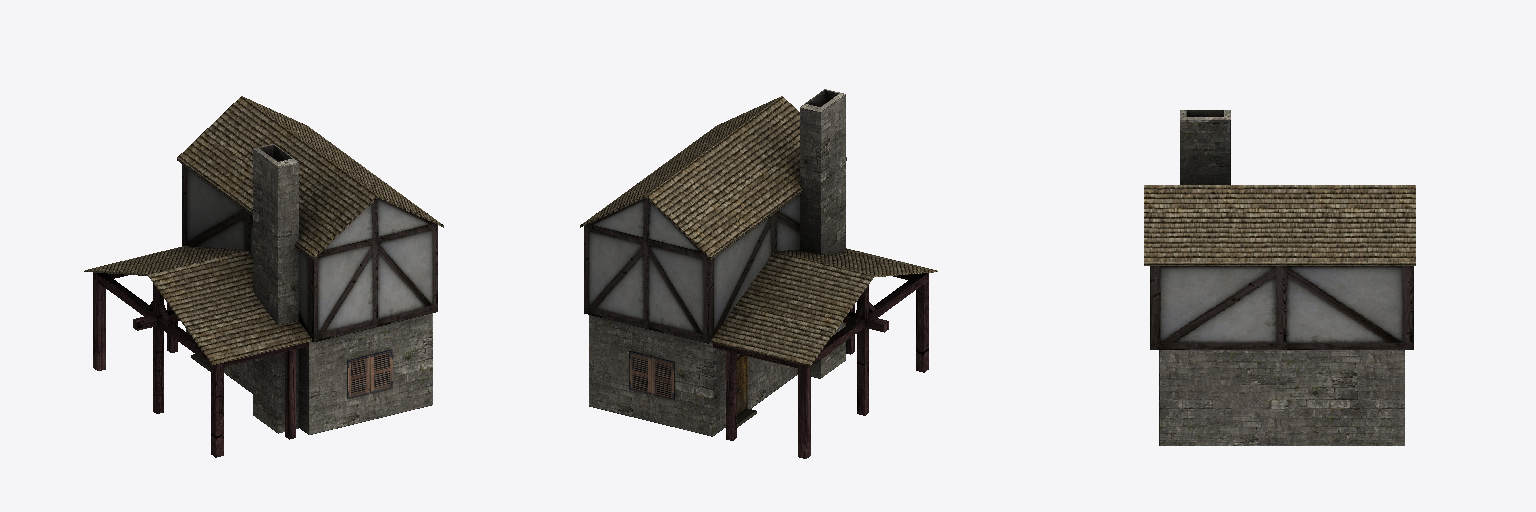
The picture shows the model from 3 angles: view 1: azimuth 30°, elevation 25°; view 2: azimuth 150°, elevation 25°; view 3: azimuth 270°, elevation 25°; orthographic projection.
Visible parts, largest first — view 1: Object_ext_house01_col.jpg; view 2: Object_ext_house01_col.jpg; view 3: Object_ext_house01_col.jpg.
Boxes of the visible parts, <box> form: Object_ext_house01_col.jpg: <box>84,96,443,457</box>; Object_ext_house01_col.jpg: <box>580,89,937,458</box>; Object_ext_house01_col.jpg: <box>1144,110,1415,445</box>.
Bounding box in the file's own units: 2.33 × 2.5 × 2.3.
Materials: 2 (1 with a texture image).